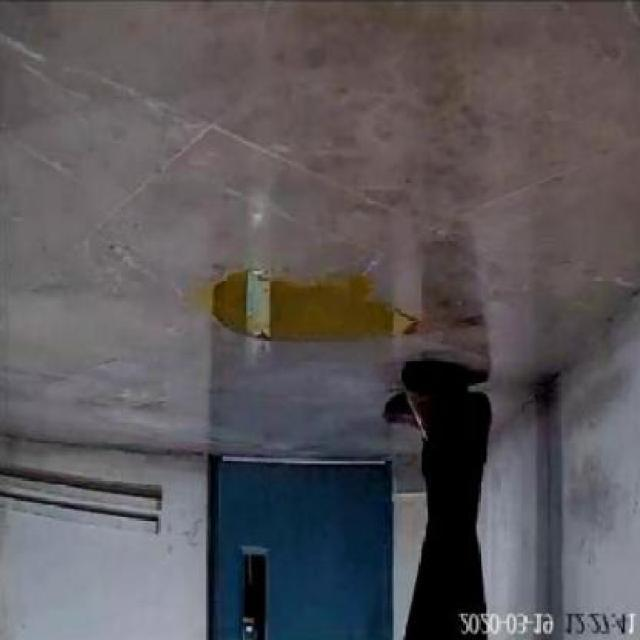spillage: (210, 268, 418, 340)
